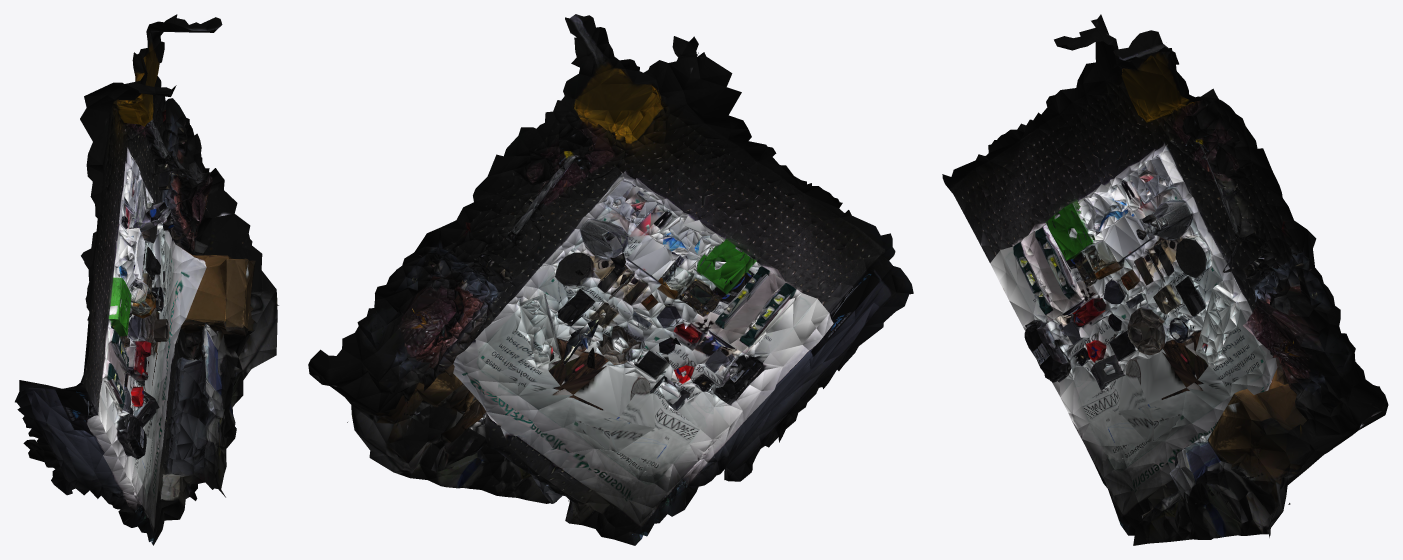
Rendered from photogrammetry-xml2.glb.
3 views of the same model, side by side, from view 1: azimuth 30°, elevation 25°; view 2: azimuth 150°, elevation 25°; view 3: azimuth 270°, elevation 25° (orthographic).
Visible parts, largest first — view 1: rgb+pol_sda_obj-with-rgb-texture; view 2: rgb+pol_sda_obj-with-rgb-texture; view 3: rgb+pol_sda_obj-with-rgb-texture.
Part boxes in pixels (bbox=[...]): rgb+pol_sda_obj-with-rgb-texture: bbox=[15, 14, 278, 545]; rgb+pol_sda_obj-with-rgb-texture: bbox=[308, 14, 913, 545]; rgb+pol_sda_obj-with-rgb-texture: bbox=[942, 14, 1388, 545].
Size of the model in its own units: 25.27 by 30.08 by 23.66.
Materials: 1 (1 with a texture image).
